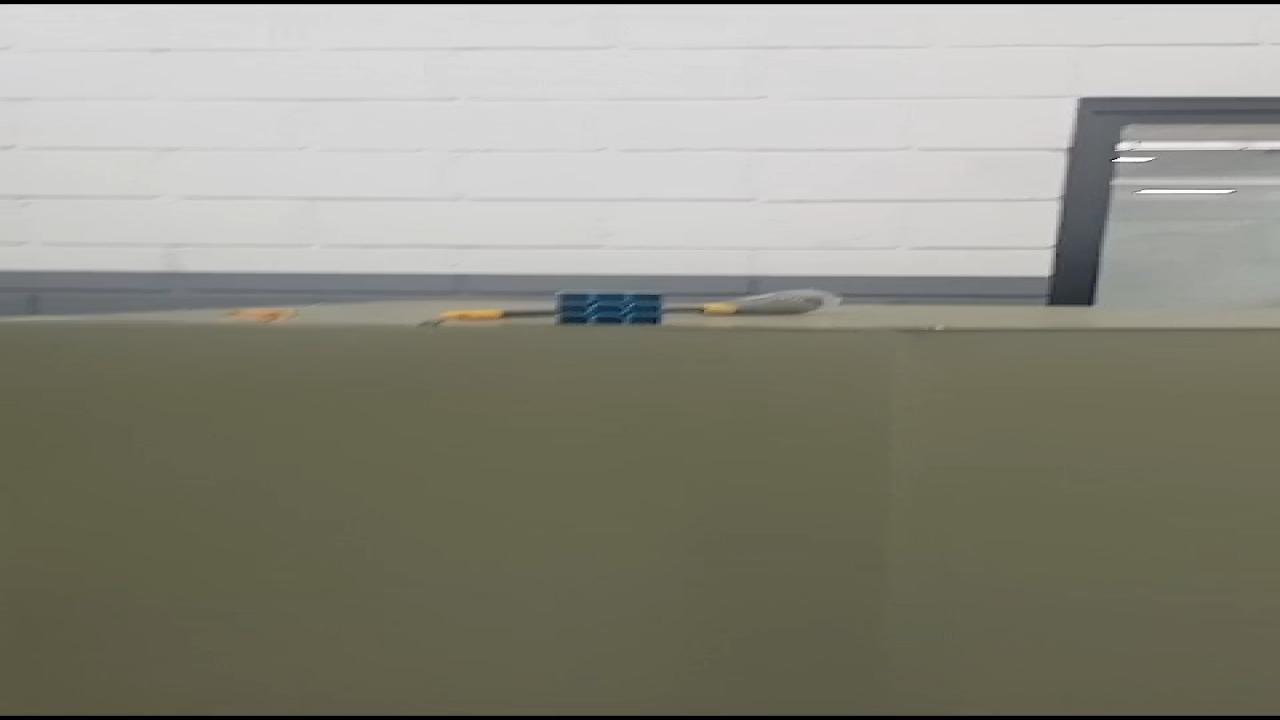Cube: (549, 288, 664, 326)
